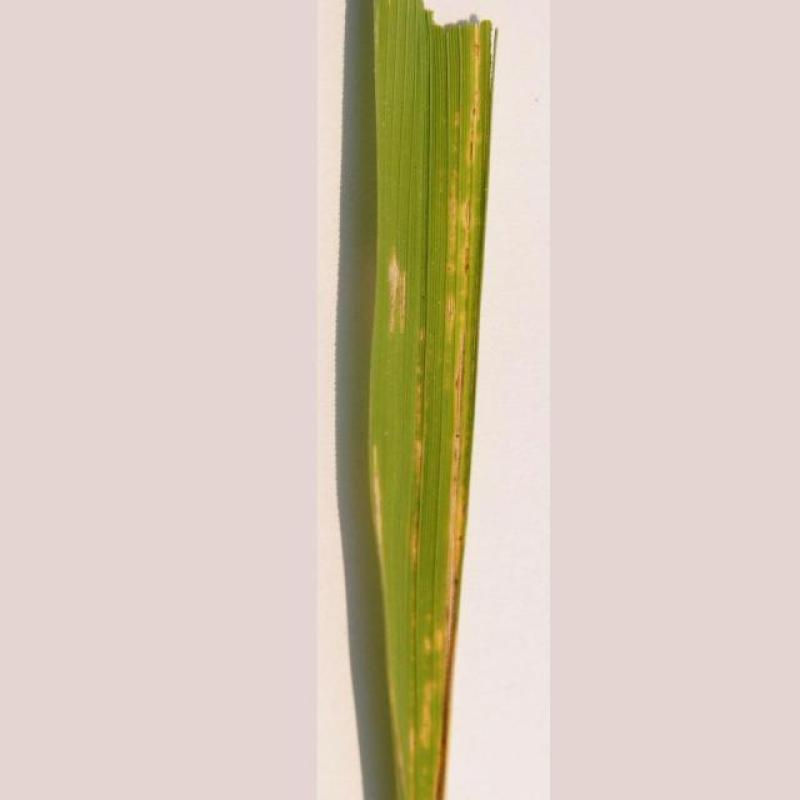Bacterial_Leaf_Blight: (401, 39, 501, 800)
